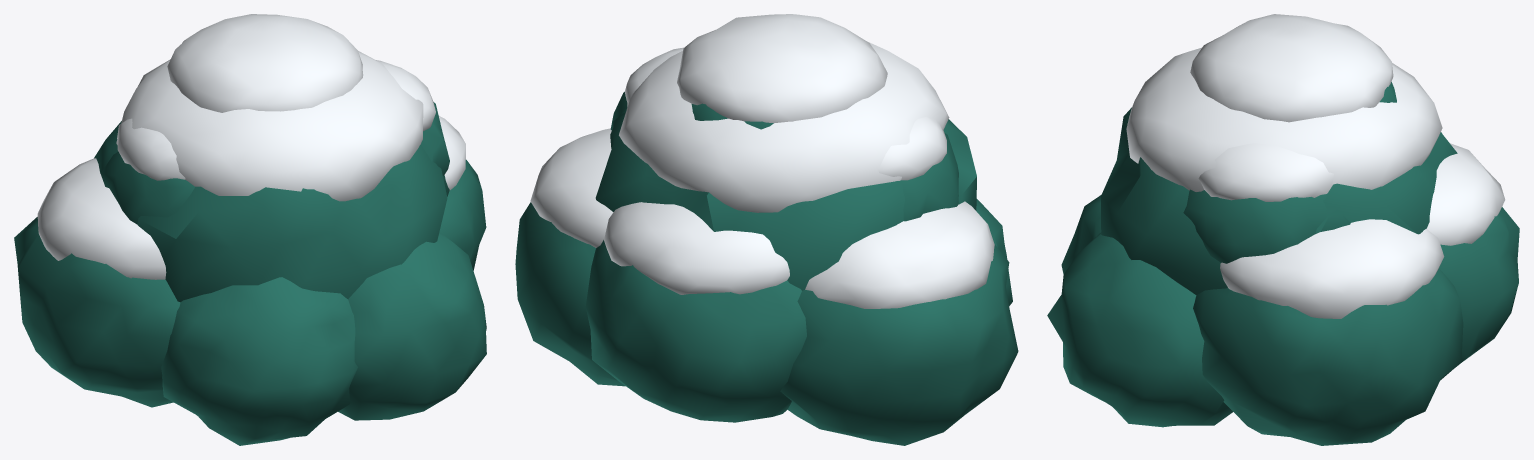
File: FrostBush.fbx
The picture shows the model from 3 angles, left to right: view 1: azimuth 30°, elevation 25°; view 2: azimuth 150°, elevation 25°; view 3: azimuth 270°, elevation 25°; orthographic projection. The views are drawn at different scales.
Visible parts, largest first — view 1: FrostBush; view 2: FrostBush; view 3: FrostBush.
Boxes of the visible parts, x1=… form: FrostBush: x1=14, y1=14, x2=486, y2=445; FrostBush: x1=515, y1=14, x2=1018, y2=445; FrostBush: x1=1047, y1=14, x2=1519, y2=445.
Size of the model in its own units: 2.63 by 1.99 by 2.39.
Materials: 1 (1 with a texture image).
